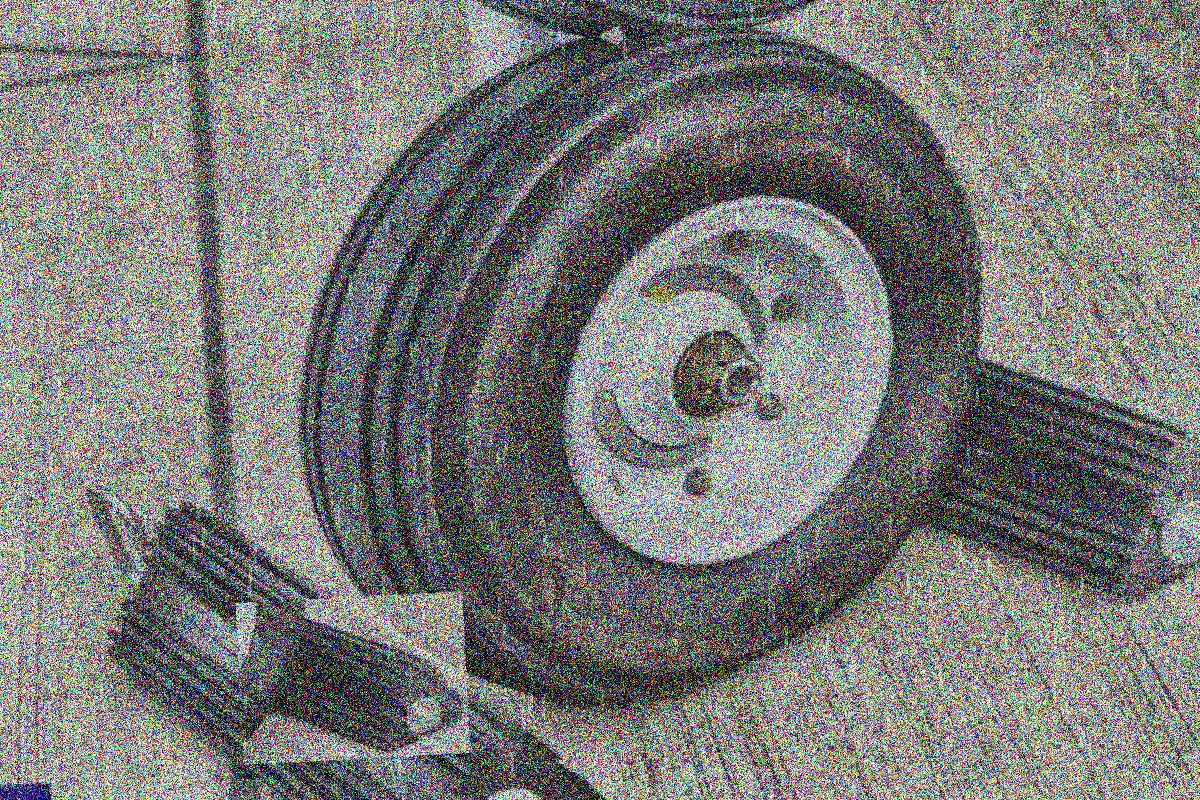chock: (34, 475, 627, 800), (856, 311, 1200, 621), (236, 591, 470, 765)
wheel: (288, 17, 1001, 713)
